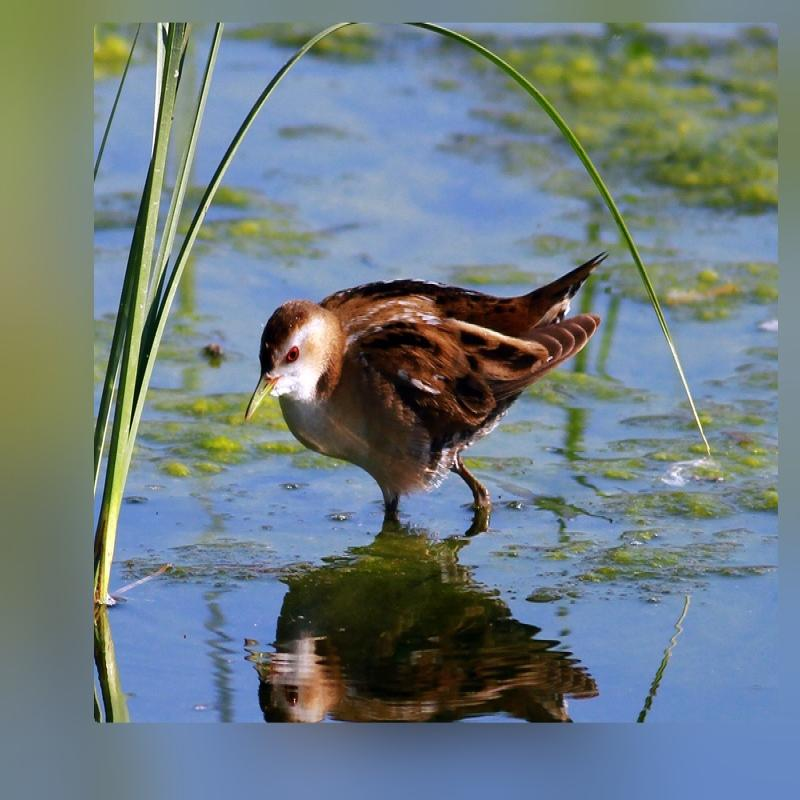little crake: (242, 247, 624, 512)
